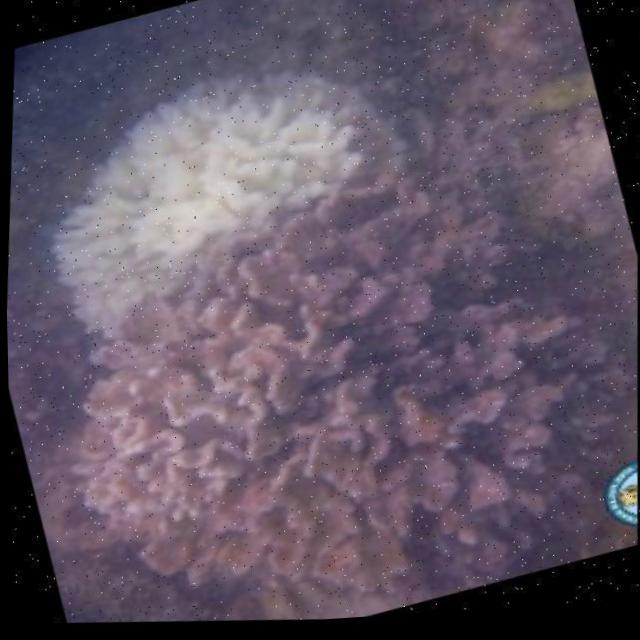Bleached Coral: (39, 63, 364, 319)
Healthy Coral: (70, 181, 629, 637)
